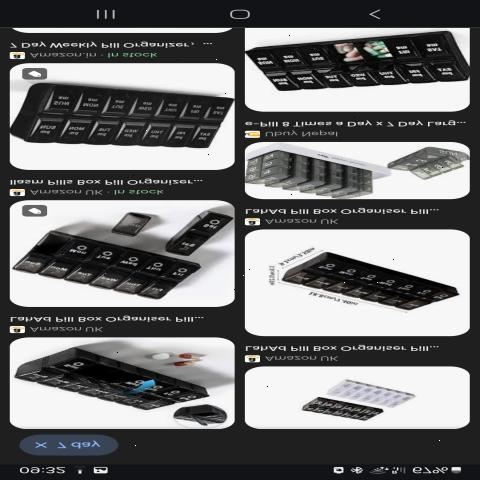PillBox: (253, 238, 470, 323), (9, 81, 235, 160), (18, 341, 218, 424), (251, 32, 480, 102), (13, 234, 214, 307), (289, 397, 402, 434)
